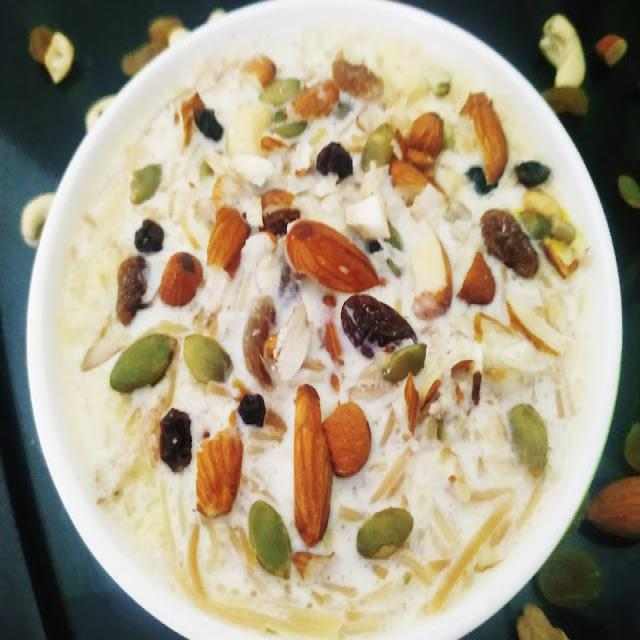shavige payasa: (44, 15, 594, 640)
